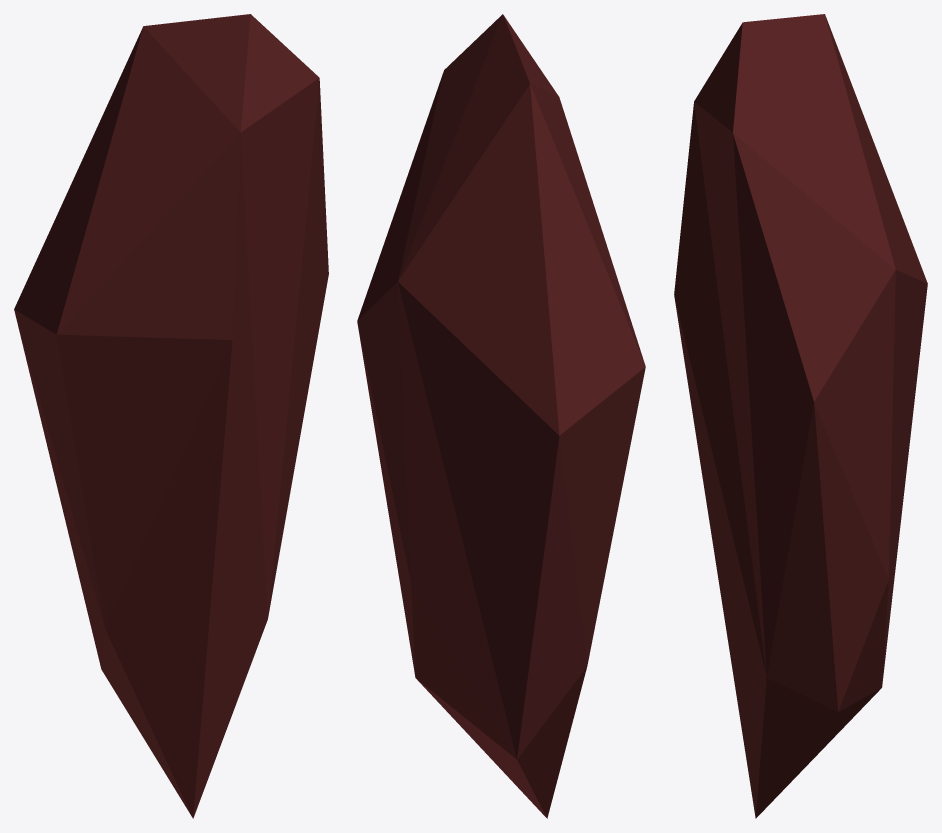
Rendered from SM_Prop_Gem_02.glb.
3 views of the same model, side by side, from view 1: azimuth 30°, elevation 25°; view 2: azimuth 150°, elevation 25°; view 3: azimuth 270°, elevation 25° (orthographic). The views are drawn at different scales.
Parts seen in each view (by area): view 1: SM_Prop_Gem_02; view 2: SM_Prop_Gem_02; view 3: SM_Prop_Gem_02.
Part boxes in pixels (left/top/right/bottom): SM_Prop_Gem_02: left=14, top=14, right=328, bottom=818; SM_Prop_Gem_02: left=357, top=14, right=645, bottom=818; SM_Prop_Gem_02: left=674, top=14, right=927, bottom=818.
Bounding box in the file's own units: 0.00227 × 0.00613 × 0.00171.
Materials: 1 (1 with a texture image).
